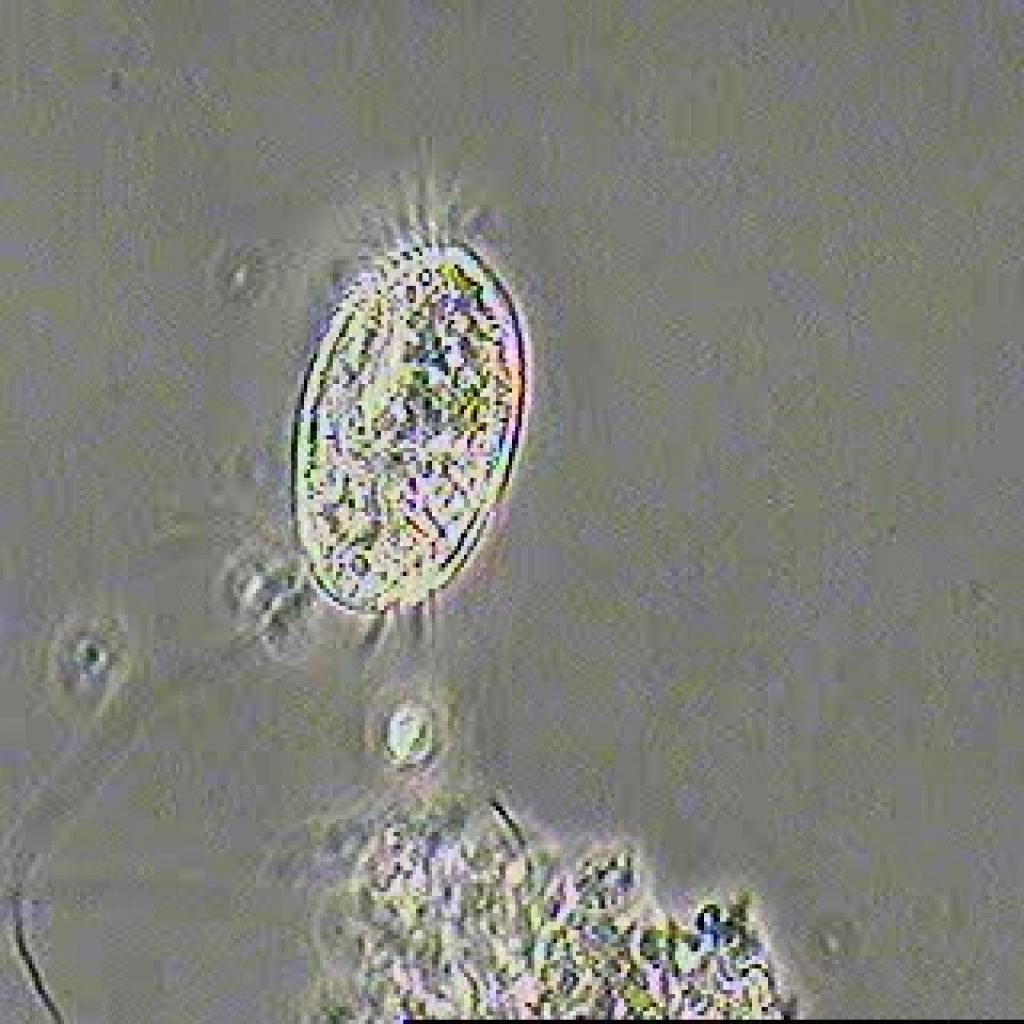Chilodonella: (245, 130, 536, 689)
